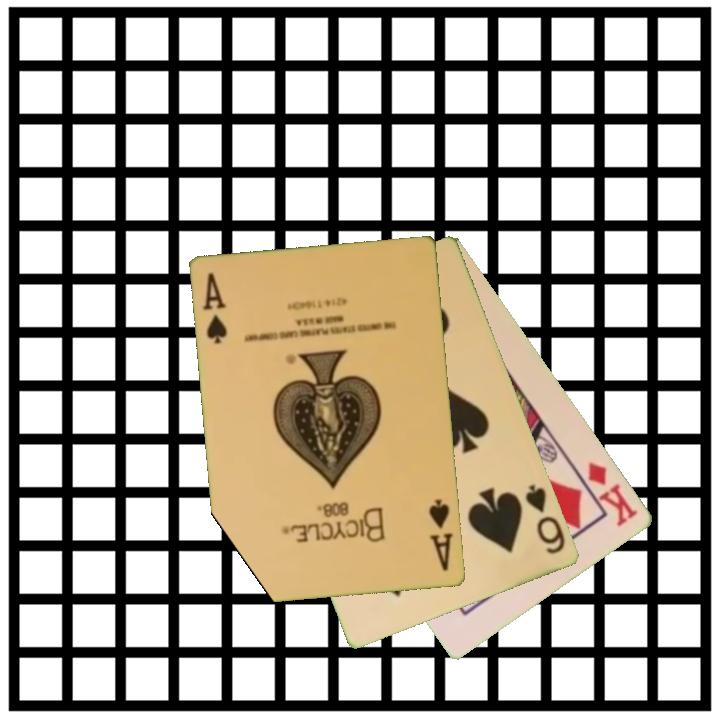6s: (522, 481, 569, 558)
As: (199, 269, 231, 347), (426, 496, 457, 574)
Kd: (573, 458, 641, 530)
